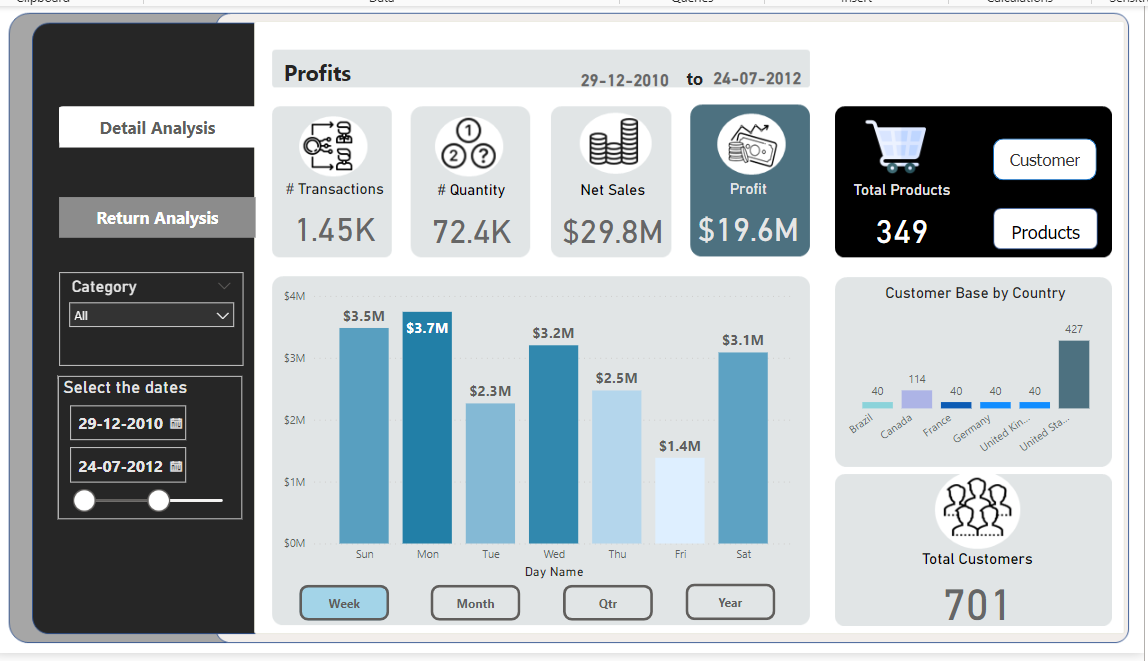

Layout of this report page (visuals, bound fields, positions):
{"tool":"powerbi","page":{"name":"Profit","canvas":[1280,720],"ordinal":3},"visuals":[{"type":"card","title":"# Transactions","fields":{"Values":["MeasuresTable.# Transactions"]},"box":[319.6,193,120.6,85.6],"z":0},{"type":"actionButton","title":"Inactive Week","box":[340.6,643.6,100.1,40.3],"z":0,"group":"g3"},{"type":"actionButton","title":"InactiveMonth","box":[487,643.6,100.1,39.8],"z":0,"group":"g2"},{"type":"actionButton","title":"Inactive Qtr","box":[633.4,643.6,100.1,40.3],"z":0,"group":"g4"},{"type":"card","title":"# Quantity","fields":{"Values":["MeasuresTable.# Total Quantity"]},"box":[457.1,194.2,149.5,85.6],"z":1000},{"type":"actionButton","title":"ActiveYear","box":[779.9,643.6,100.1,40.3],"z":1000,"group":"g1"},{"type":"card","title":"Net Sales","fields":{"Values":["MeasuresTable.Net Revenue"]},"box":[615.1,194.2,149.5,85.6],"z":2000},{"type":"card","title":"Profit","fields":{"Values":["MeasuresTable.Total Profit"]},"box":[764.6,193,150.8,85.6],"z":3000},{"type":"card","title":"Total Products","fields":{"Values":["MeasuresTable.Total No of Products"]},"box":[872,194.2,278.6,85.6],"z":4000},{"type":"columnChart","title":"Year T chart","fields":{"Category":["DimDates.Year"],"Y":["MeasuresTable.Total Profit"]},"box":[318.4,308.7,577.7,332.9],"z":8000},{"type":"group","id":"g1","title":"Year Button","box":[770,642.7,110,41.2],"z":9000},{"type":"group","id":"g2","title":"Month Button","box":[487,643.6,100.1,40.3],"z":10000},{"type":"group","id":"g3","title":"Week Button","box":[340.6,643.6,100.1,40.3],"z":11000},{"type":"group","id":"g4","title":"Qtr Button","box":[633.4,643.6,100.1,40.3],"z":12000},{"type":"card","title":"Total Customers","fields":{"Values":["MeasuresTable.Total Customer Base"]},"box":[955,605.3,279.1,91.8],"z":13000},{"type":"columnChart","title":"Customer Base by Country","fields":{"Category":["DimCustomers.CountryName"],"Y":["MeasuresTable.Total Customer Base"]},"box":[942.6,308.8,300.2,200.9],"z":14000},{"type":"textbox","box":[317.8,53.5,335.2,46.2],"z":15000},{"type":"actionButton","box":[73.7,112.7,218.1,44.8],"z":16000},{"type":"actionButton","box":[472.4,122.8,124.2,156],"z":17000},{"type":"actionButton","box":[633.1,117.6,117.6,160.9],"z":18000},{"type":"actionButton","box":[317.5,117.8,122.8,161.2],"z":19000},{"type":"actionButton","box":[471,117,122.8,161.8],"z":20000},{"type":"actionButton","box":[627,115.6,122.8,161.8],"z":21000},{"type":"card","fields":{"Values":["Min(DimDates.Date)"]},"box":[632.8,65,140.1,34.7],"z":22000},{"type":"card","fields":{"Values":["Max(DimDates.Date)"]},"box":[780.1,63.6,140.1,34.7],"z":23000},{"type":"textbox","box":[765.7,62.1,49.1,43.3],"z":24000},{"type":"slicer","title":"Select the dates","fields":{"Values":["DimDates.Date"]},"box":[72.4,411.3,205,159.2],"z":25000},{"type":"actionButton","box":[73.7,212.4,218.1,44.8],"z":26000},{"type":"actionButton","box":[1108.1,225.4,125.7,50.6],"z":27000},{"type":"shape","box":[1112.4,147.4,115.6,46.2],"z":28000},{"type":"actionButton","box":[1108.1,147.4,115.6,46.2],"z":29000},{"type":"slicer","fields":{"Values":["DimCategory.CategoryName"]},"box":[73.6,296.7,205,103.7],"z":30000},{"type":"image","box":[964.8,118.2,78.4,77.2],"z":31000}]}

Visuals, with their boxes on the page's 1280x720 design canvas (x1, y1, x2, y2). These are canvas units, not pixel positions in the 1148x661 screenshot, which may show the page scaled, cropped or inside an application window:
"# Transactions" card: box(320, 193, 440, 279)
"Inactive Week" actionButton: box(341, 644, 441, 684)
"InactiveMonth" actionButton: box(487, 644, 587, 683)
"Inactive Qtr" actionButton: box(633, 644, 734, 684)
"# Quantity" card: box(457, 194, 607, 280)
"ActiveYear" actionButton: box(780, 644, 880, 684)
"Net Sales" card: box(615, 194, 765, 280)
"Profit" card: box(765, 193, 915, 279)
"Total Products" card: box(872, 194, 1151, 280)
"Year T chart" columnChart: box(318, 309, 896, 642)
"Year Button" group: box(770, 643, 880, 684)
"Month Button" group: box(487, 644, 587, 684)
"Week Button" group: box(341, 644, 441, 684)
"Qtr Button" group: box(633, 644, 734, 684)
"Total Customers" card: box(955, 605, 1234, 697)
"Customer Base by Country" columnChart: box(943, 309, 1243, 510)
textbox: box(318, 54, 653, 100)
actionButton: box(74, 113, 292, 158)
actionButton: box(472, 123, 597, 279)
actionButton: box(633, 118, 751, 278)
actionButton: box(318, 118, 440, 279)
actionButton: box(471, 117, 594, 279)
actionButton: box(627, 116, 750, 277)
card - Min(DimDates.Date): box(633, 65, 773, 100)
card - Max(DimDates.Date): box(780, 64, 920, 98)
textbox: box(766, 62, 815, 105)
"Select the dates" slicer: box(72, 411, 277, 570)
actionButton: box(74, 212, 292, 257)
actionButton: box(1108, 225, 1234, 276)
shape: box(1112, 147, 1228, 194)
actionButton: box(1108, 147, 1224, 194)
slicer - DimCategory.CategoryName: box(74, 297, 279, 400)
image: box(965, 118, 1043, 195)
